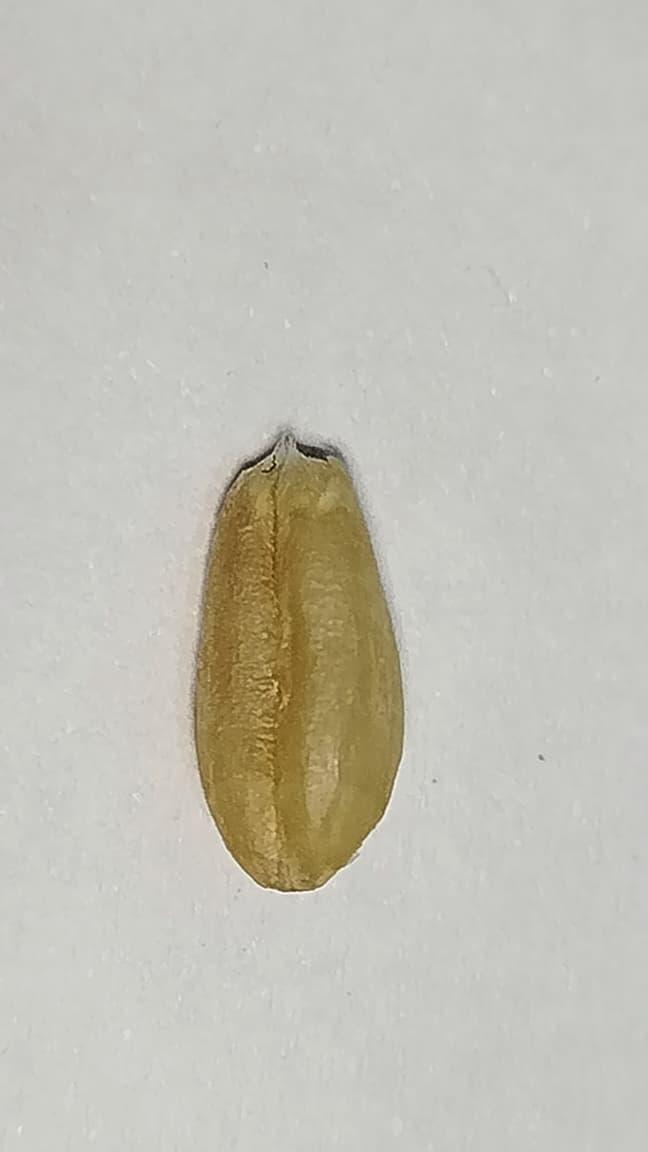healthy: (188, 431, 406, 891)
